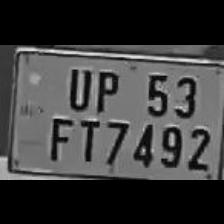2: (182, 121, 212, 171)
3: (170, 68, 197, 116)
4: (127, 116, 153, 166)
5: (141, 68, 170, 116)
7: (100, 116, 127, 166)
9: (157, 119, 183, 165)
F: (44, 111, 74, 160)
P: (91, 62, 121, 112)
T: (74, 115, 100, 161)
U: (62, 60, 92, 110)
